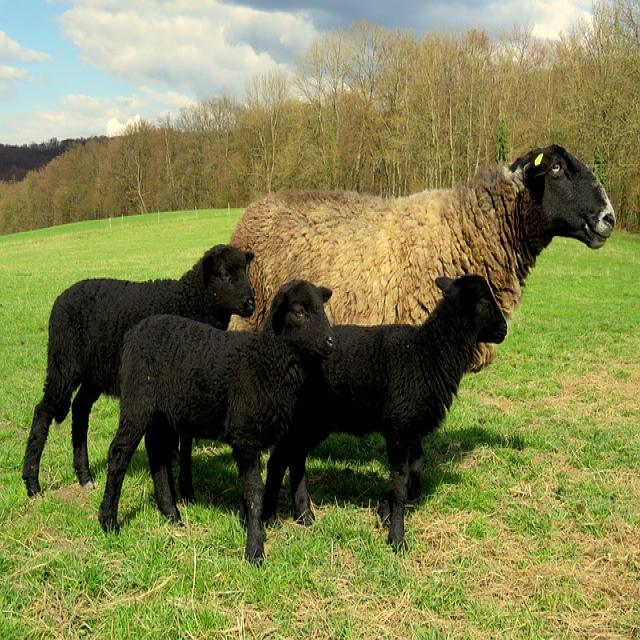goat: (231, 145, 615, 329), (262, 277, 506, 549), (99, 280, 334, 560), (22, 245, 255, 496)
